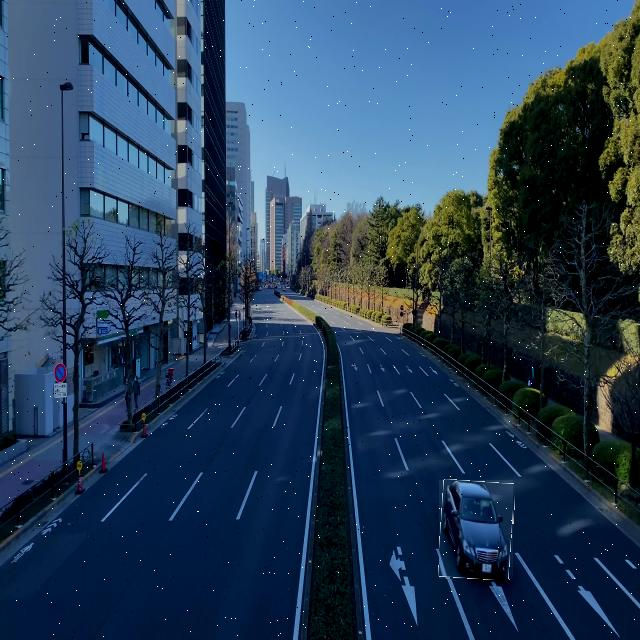Car: (439, 480, 514, 579)
